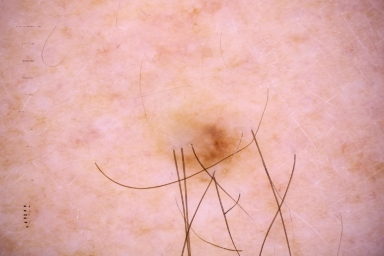melanoma: (173, 125, 232, 174)
